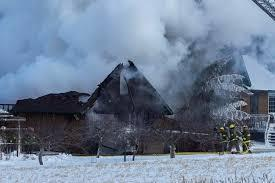smoke: (0, 0, 275, 117)
